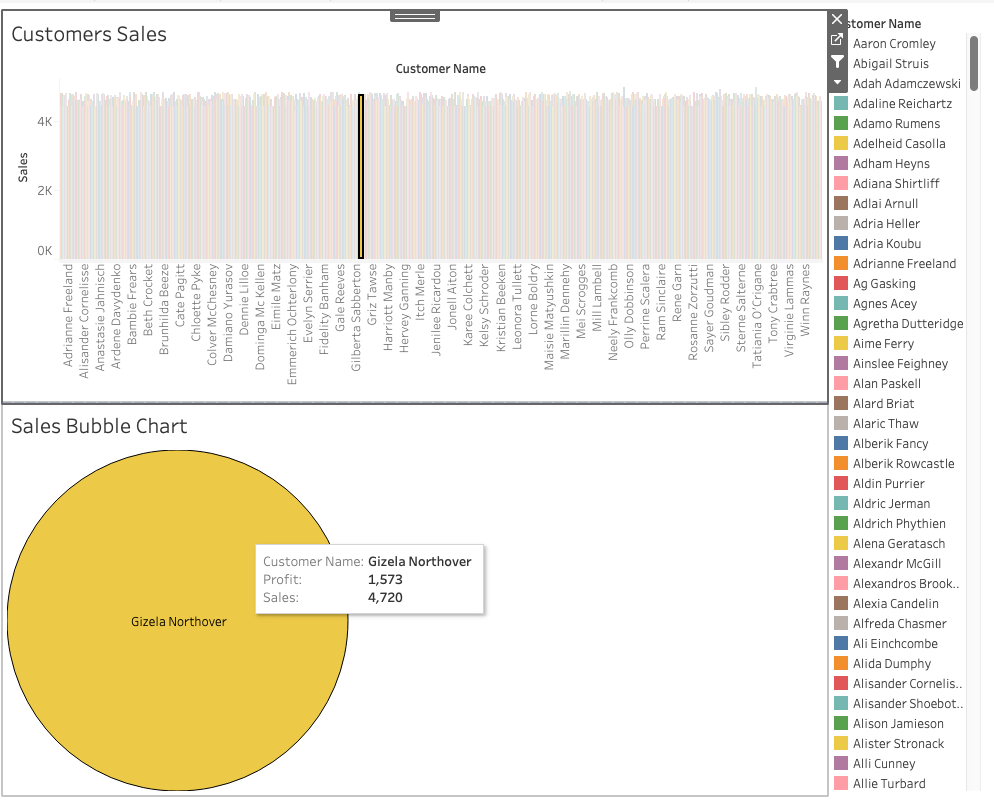

This screenshot's page, from the dashboard's own definition file:
{"tool":"tableau","page":{"name":"Sales Dashboard","canvas":[1000,800],"ordinal":0},"visuals":[{"type":"worksheet","title":"Customers Sales","mark":"Automatic","rows":["Sales"],"cols":["Customer Name"],"box":[8,8,824,392]},{"type":"legend","title":"Customers Sales","param":"[federated.1r5a5b618tcei01h6mcqz0hg8anl].[none:Customer Name:nk]","box":[832,8,160,784]},{"type":"worksheet","title":"Sales Bubble Chart","mark":"Circle","box":[8,400,824,392]}]}

Visuals, with their boxes in screenshot pixels (x1, y1, x2, y2):
"Customers Sales" worksheet: (0,3,827,401)
"Customers Sales" legend: (827,3,990,800)
"Sales Bubble Chart" worksheet (Circle marks): (0,401,827,800)
